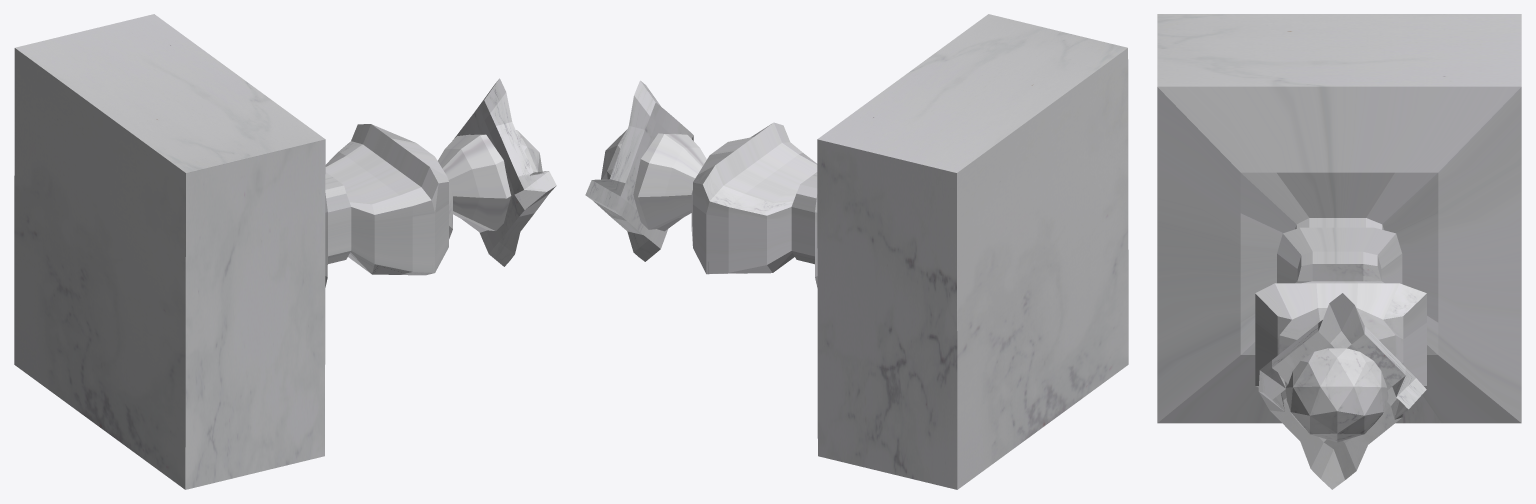
File: Pirate.fbx
The picture shows the model from 3 angles, left to right: view 1: azimuth 30°, elevation 25°; view 2: azimuth 150°, elevation 25°; view 3: azimuth 270°, elevation 25°; orthographic projection. The views are drawn at different scales.
Parts seen in each view (by area): view 1: Cube.087; view 2: Cube.087; view 3: Cube.087.
Part boxes in pixels (bbox=[...]): Cube.087: bbox=[14, 14, 556, 489]; Cube.087: bbox=[585, 14, 1128, 489]; Cube.087: bbox=[1157, 14, 1521, 489].
Bounding box in the file's own units: 125 × 86.64 × 84.85.
